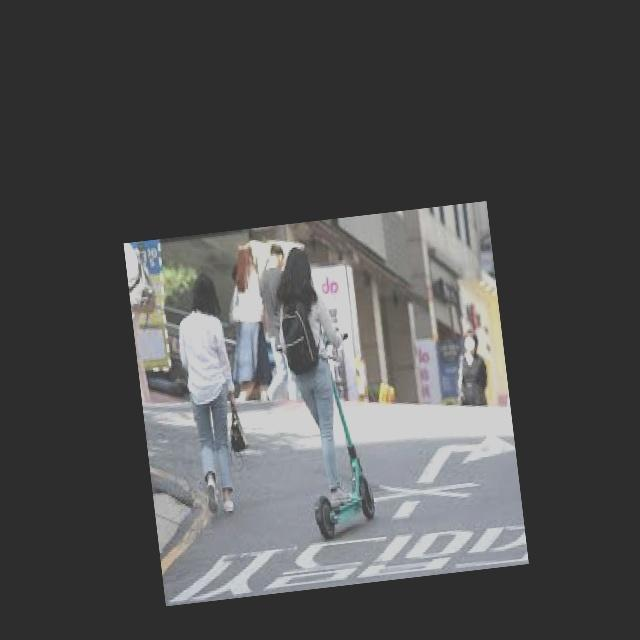bare_head: (278, 248, 328, 302)
human: (276, 247, 362, 507)
kickboard: (300, 478, 392, 545)
